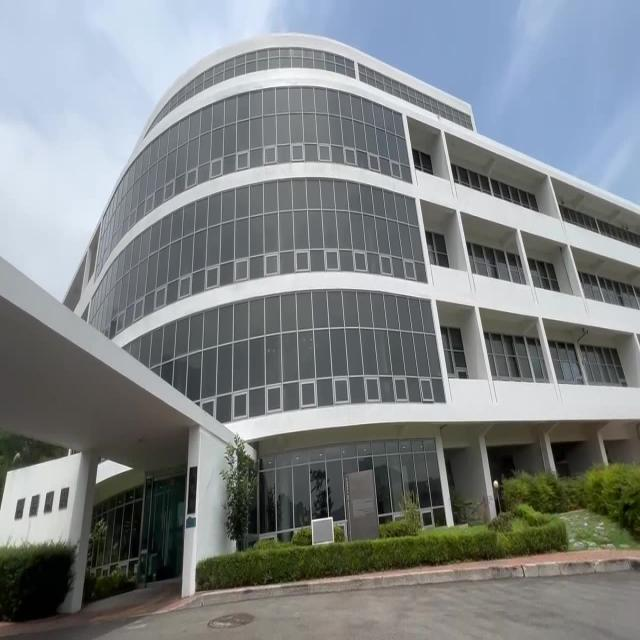building: (186, 28, 588, 460)
